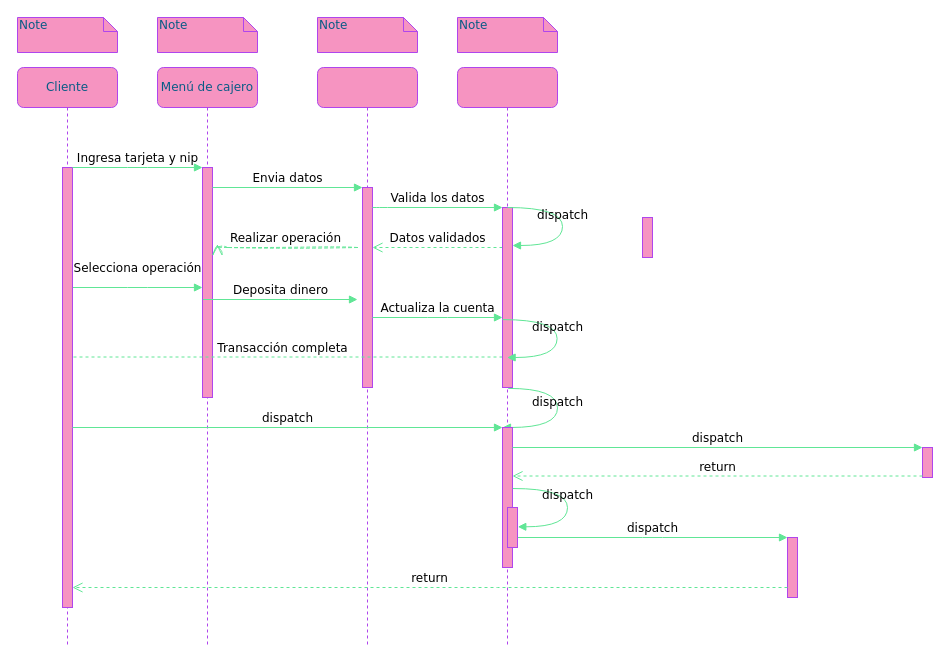
Some shapes in this 950 by 665 pixel diagram are drawn without their labels. Each missing label, with the box of its shape:
Banco: (316, 66, 418, 648)
Sistema: (456, 66, 558, 648)
